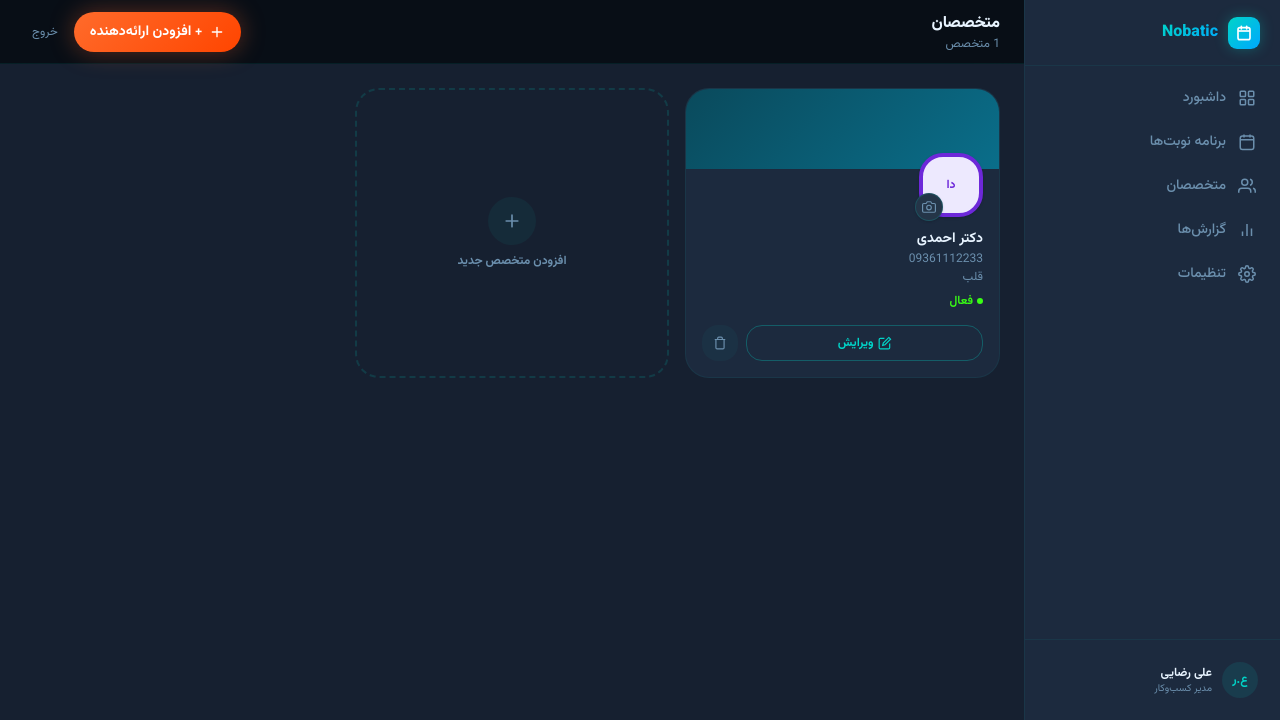
Scenario: ProvidersPage — add form validation › opens add form modal
What coordinates should you click on to do the following:
click the button "+ افزودن ارائه‌دهنده"
I would click on:
 (157, 32)
Its box is [74,12,241,52].
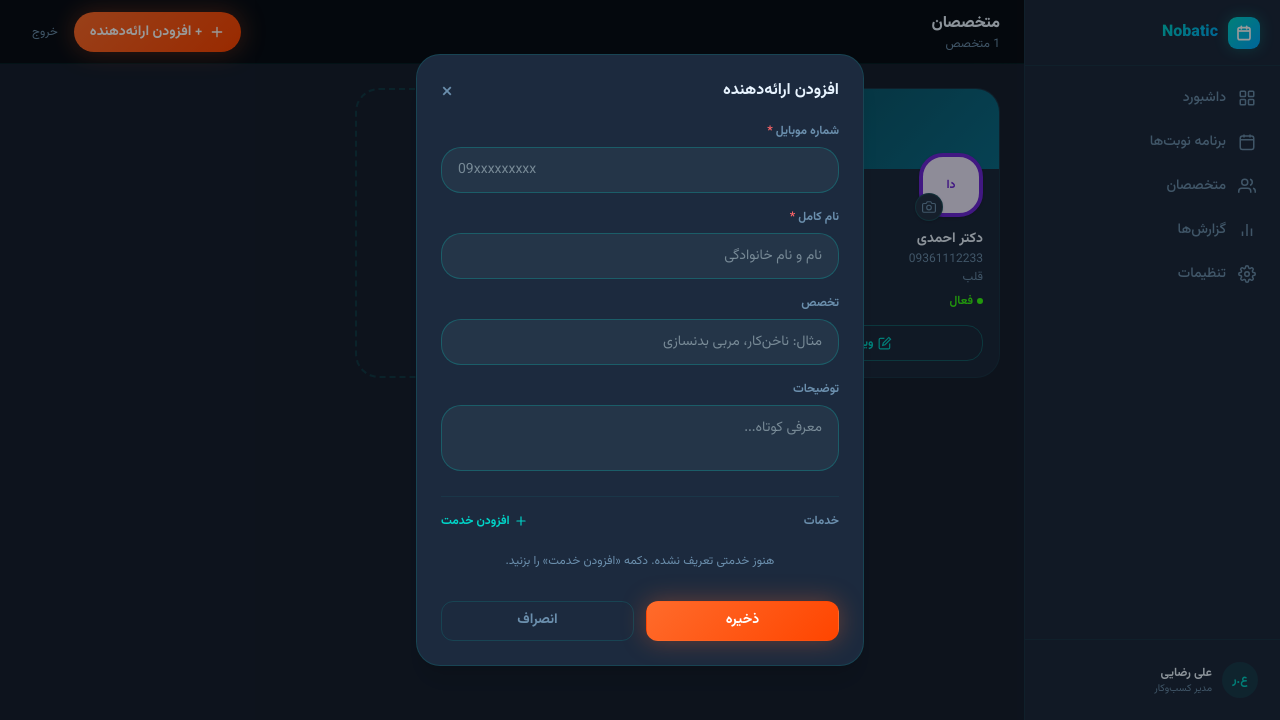
Check: the dialog "افزودن ارائه‌دهنده" is shown
